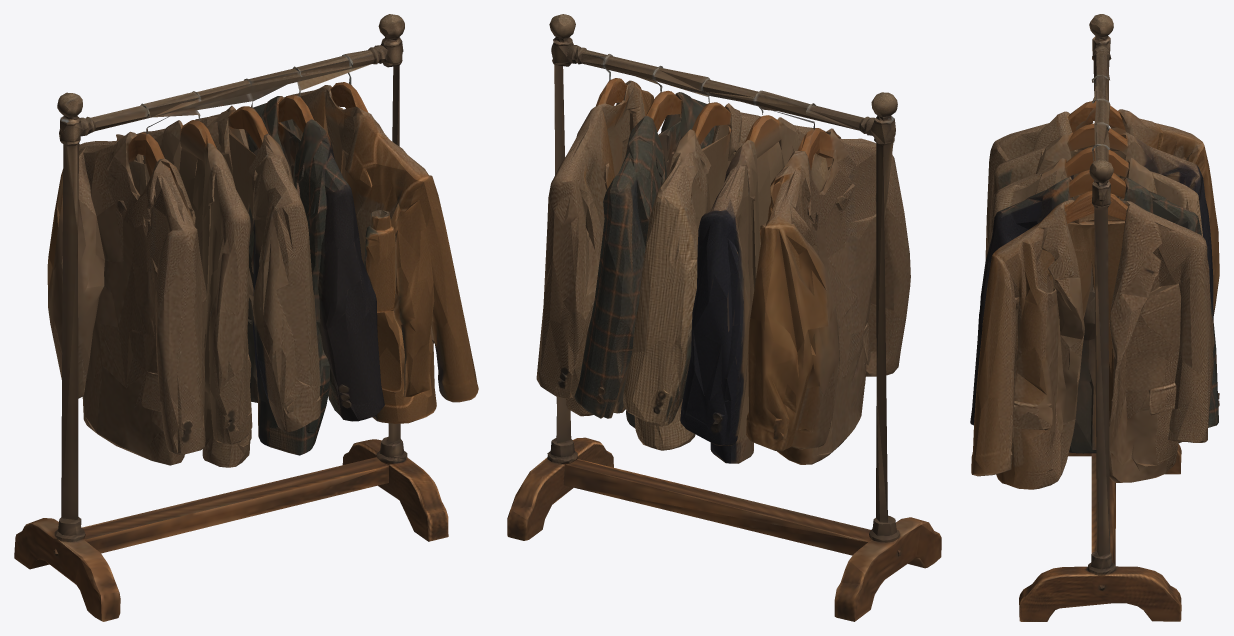
The model's file is rack.glb.
3 renders of one model, left to right at view 1: azimuth 30°, elevation 25°; view 2: azimuth 150°, elevation 25°; view 3: azimuth 270°, elevation 25°, orthographic. The views are drawn at different scales.
Parts seen in each view (by area): view 1: Mesh_0; view 2: Mesh_0; view 3: Mesh_0.
Part boxes in pixels (box(x1,y1,x2,y2)): Mesh_0: box(14, 14, 478, 621); Mesh_0: box(507, 14, 941, 621); Mesh_0: box(970, 14, 1219, 621).
Bounding box in the file's own units: 1.45 × 1.9 × 0.9402.
Materials: 1 (1 with a texture image).
